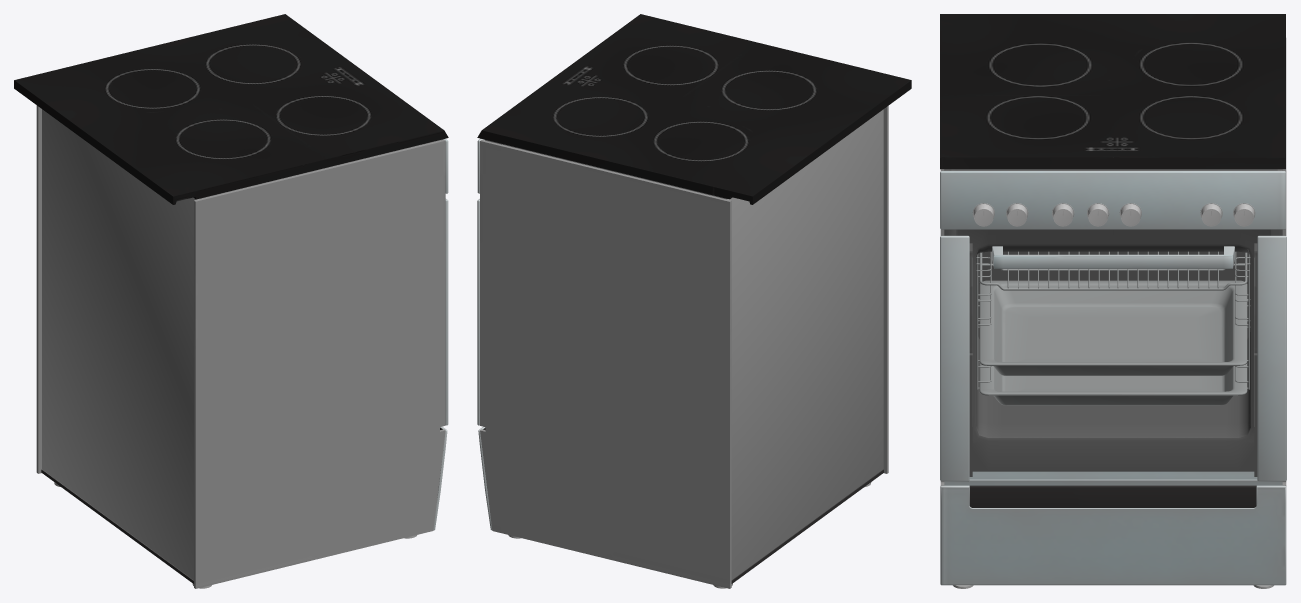
Rendered from visual_LowPoly_Full_09_Oven.dae.
3 renders of one model, left to right at view 1: azimuth 30°, elevation 25°; view 2: azimuth 150°, elevation 25°; view 3: azimuth 270°, elevation 25°, orthographic. The views are drawn at different scales.
Parts seen in each view (by area): view 1: SM_oven_daikuang; view 2: SM_oven_daikuang; view 3: SM_oven_daikuang.
Boxes of the visible parts, left/top/right/bottom form: SM_oven_daikuang: left=14, top=14, right=448, bottom=588; SM_oven_daikuang: left=477, top=14, right=911, bottom=588; SM_oven_daikuang: left=940, top=14, right=1286, bottom=588.
Size of the model in its own units: 63.7 by 60.15 by 84.33.
Materials: 2 (1 with a texture image).
